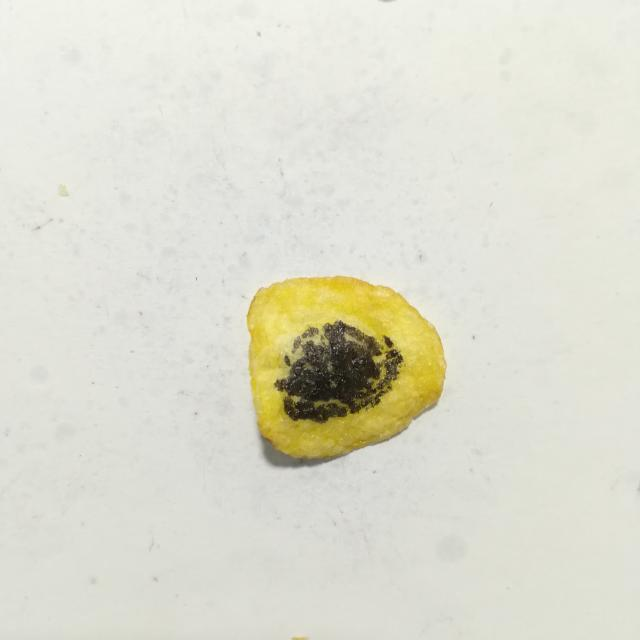chip: (247, 277, 446, 458)
damaged: (275, 320, 402, 422)
